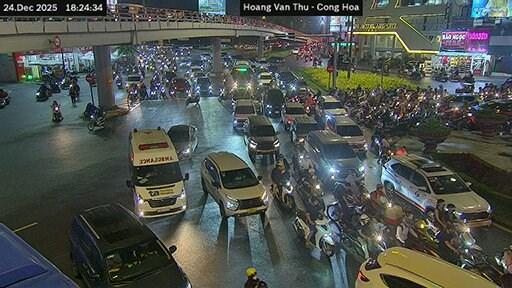motorbike: (345, 221, 387, 256), (310, 216, 335, 256), (269, 171, 294, 208), (493, 246, 511, 271), (294, 211, 309, 238), (86, 111, 105, 130), (45, 77, 60, 93), (83, 103, 99, 117), (454, 82, 473, 93), (51, 104, 63, 121), (128, 89, 140, 106), (35, 88, 51, 99), (0, 89, 9, 108), (432, 71, 447, 80), (185, 94, 198, 104), (409, 71, 422, 80), (460, 76, 473, 84), (115, 75, 122, 88), (450, 72, 460, 81)
